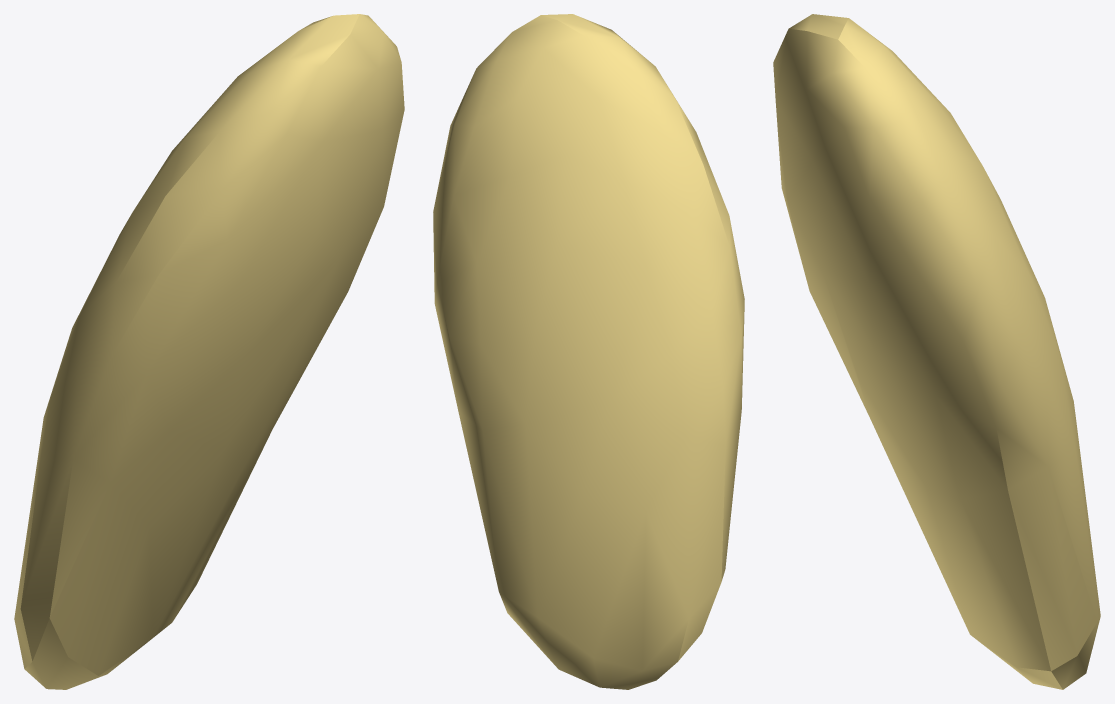
File: fma73790_mm2654.glb
3 renders of one model, left to right at view 1: azimuth 30°, elevation 25°; view 2: azimuth 150°, elevation 25°; view 3: azimuth 270°, elevation 25°, orthographic. The views are drawn at different scales.
Visible parts, largest first — view 1: FMA73790_MM2654; view 2: FMA73790_MM2654; view 3: FMA73790_MM2654.
Boxes of the visible parts, bbox=[...] form: FMA73790_MM2654: bbox=[14, 14, 404, 689]; FMA73790_MM2654: bbox=[433, 14, 744, 689]; FMA73790_MM2654: bbox=[773, 14, 1100, 689].
Bounding box in the file's own units: 0.00202 × 0.00386 × 0.00156.
